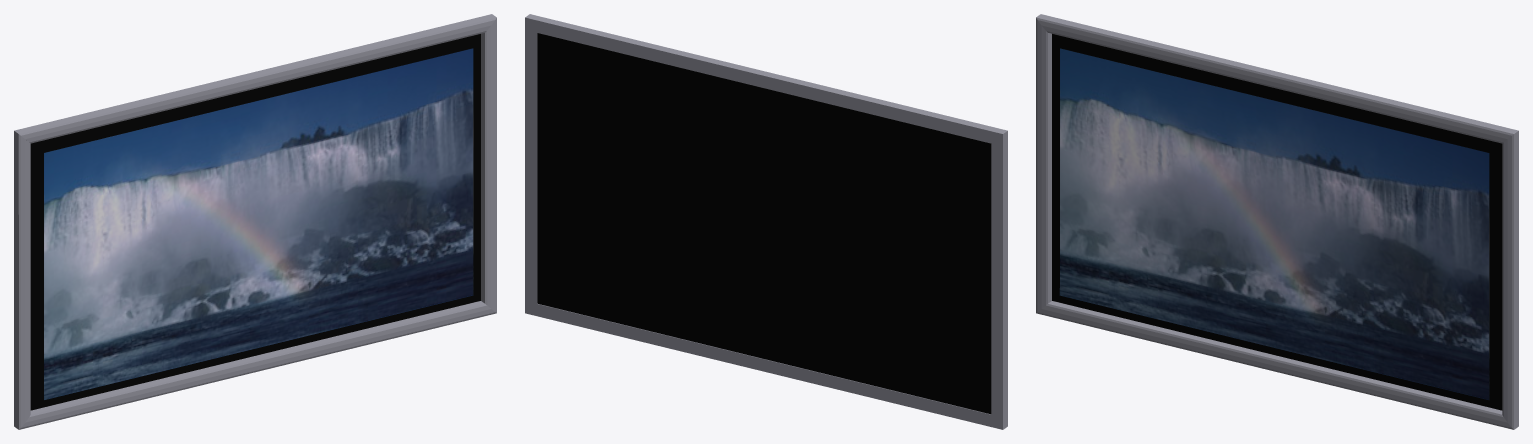
Rendered from NiagaraFallsFrame.obj.
3 views of the same model, side by side, from view 1: azimuth 30°, elevation 25°; view 2: azimuth 150°, elevation 25°; view 3: azimuth 330°, elevation 25° (orthographic).
Visible parts, largest first — view 1: Photo_Cube_Material_NiagaraFalls.jpg, MetalFrame_Cylinder_Aluminium.009, Frame_Black_Material.010; view 2: Frame_Black_Material.010, MetalFrame_Cylinder_Aluminium.009; view 3: Photo_Cube_Material_NiagaraFalls.jpg, MetalFrame_Cylinder_Aluminium.009, Frame_Black_Material.010.
Boxes of the visible parts, left/top/right/bottom form: Photo_Cube_Material_NiagaraFalls.jpg: left=44, top=48, right=473, bottom=399; MetalFrame_Cylinder_Aluminium.009: left=14, top=14, right=496, bottom=429; Frame_Black_Material.010: left=30, top=34, right=480, bottom=410; Frame_Black_Material.010: left=537, top=33, right=991, bottom=414; MetalFrame_Cylinder_Aluminium.009: left=525, top=14, right=1007, bottom=429; Photo_Cube_Material_NiagaraFalls.jpg: left=1059, top=48, right=1489, bottom=399; MetalFrame_Cylinder_Aluminium.009: left=1036, top=14, right=1518, bottom=429; Frame_Black_Material.010: left=1052, top=34, right=1502, bottom=410.
Size of the model in its own units: 80.93 by 47.86 by 1.6.
Materials: 3 (1 with a texture image).
